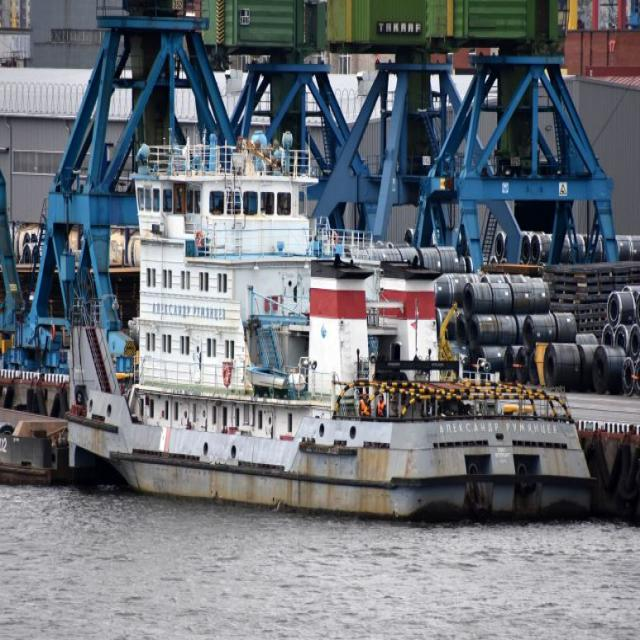tugboat: (59, 118, 602, 539)
